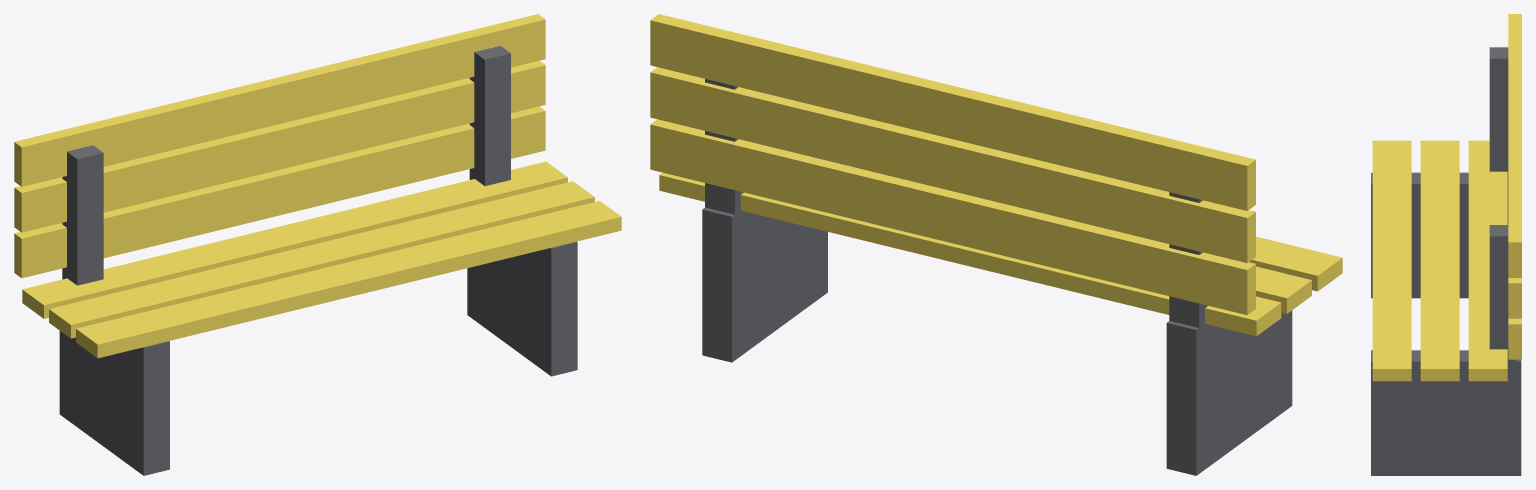
File: bench_street.glb
The picture shows the model from 3 angles, left to right: view 1: azimuth 30°, elevation 25°; view 2: azimuth 150°, elevation 25°; view 3: azimuth 270°, elevation 25°; orthographic projection. The views are drawn at different scales.
Parts seen in each view (by area): view 1: street-bench-canary, street-bench-charcoal; view 2: street-bench-canary, street-bench-charcoal; view 3: street-bench-canary, street-bench-charcoal.
Part boxes in pixels (x1,y1,x2,y2): street-bench-canary: [14, 14, 621, 358]; street-bench-charcoal: [59, 46, 577, 475]; street-bench-canary: [650, 14, 1342, 336]; street-bench-charcoal: [702, 79, 1292, 475]; street-bench-canary: [1372, 14, 1521, 381]; street-bench-charcoal: [1371, 47, 1521, 475].
Bounding box in the file's own units: 1.8 × 0.9301 × 0.5025.
